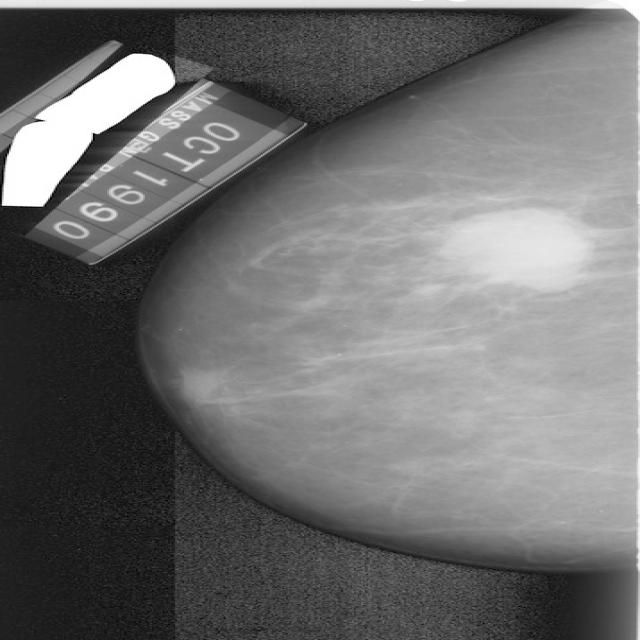tumour: (436, 207, 594, 286)
